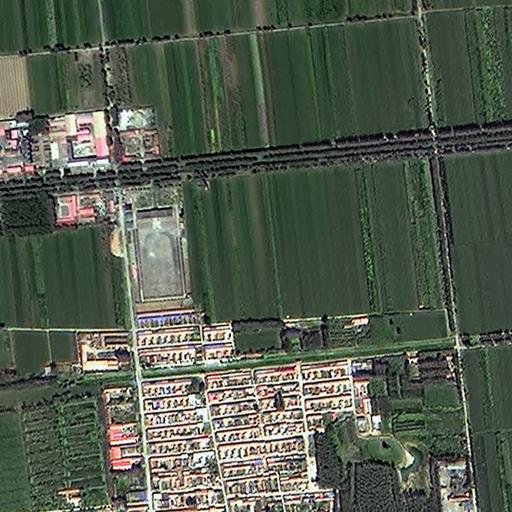school: (127, 183, 188, 310)
